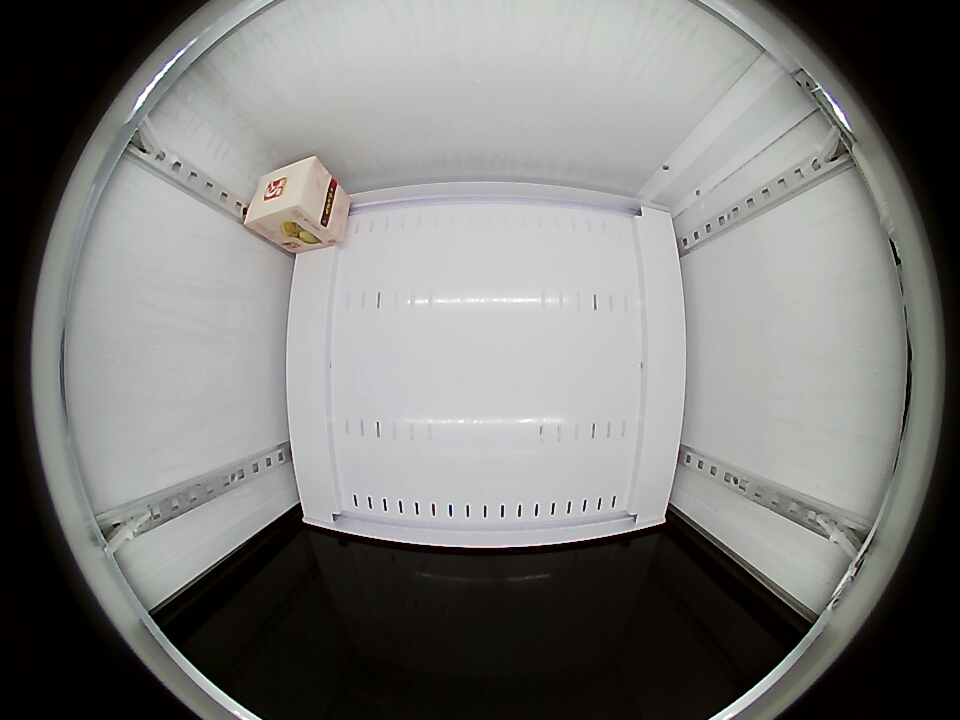rousongbing: (243, 155, 335, 241)
